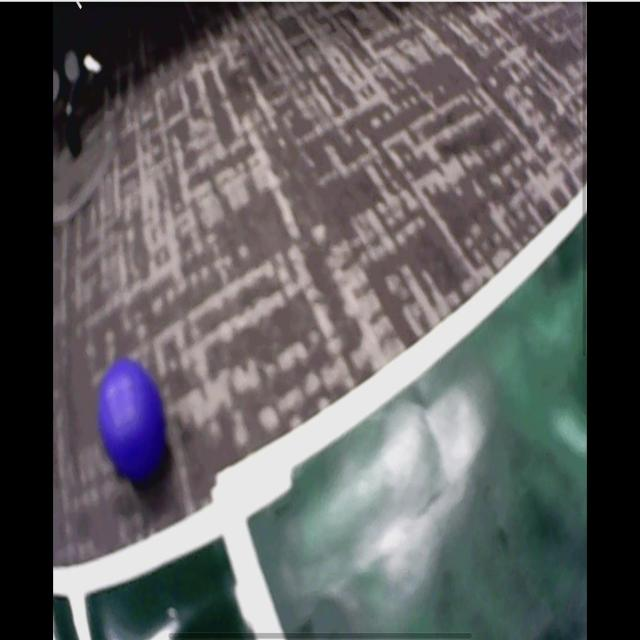ball: (100, 359, 166, 479)
